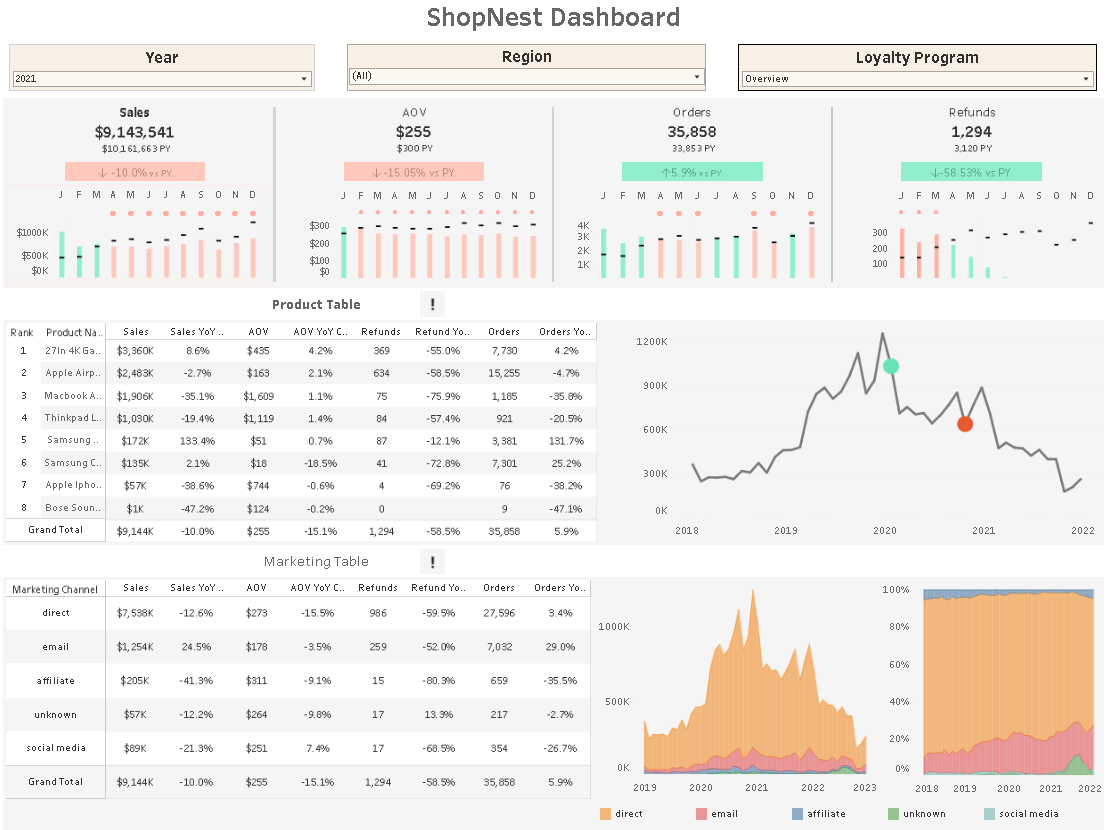

This screenshot's page, from the dashboard's own definition file:
{"tool":"tableau","page":{"name":"E-Commerce Dashboard","canvas":[1466,1068],"ordinal":0},"visuals":[{"type":"blank","box":[8,8,37,1052]},{"type":"text","box":[45,8,1375.8,54]},{"type":"blank","box":[1420.8,8,37.2,1052]},{"type":"parameter","param":"[Parameters].[Parameter 1]","box":[49,66,390,67]},{"type":"blank","box":[439,66,32,67]},{"type":"filter","title":"Sales Text","param":"[federated.0xa2xj31ri3njg17zrqng1dpn05a].[none:REGION:nk]","box":[471,66,456.9,67]},{"type":"blank","box":[927.9,66,32,67]},{"type":"parameter","param":"[Parameters].[Year Selected (copy)_1142506971504132098]","box":[959.9,66,456.9,67]},{"type":"worksheet","title":"Sales Text","mark":"Automatic","box":[47,139,325.7,74]},{"type":"blank","box":[372.7,139,23,234]},{"type":"worksheet","title":"AOV Text","mark":"Automatic","box":[395.7,139,325.7,74]},{"type":"blank","box":[721.4,139,23,234]},{"type":"worksheet","title":"Orders Text","mark":"Automatic","box":[744.4,139,325.7,74]},{"type":"blank","box":[1070.1,139,23,234]},{"type":"worksheet","title":"Refund Text","mark":"Automatic","box":[1093.1,139,325.7,74]},{"type":"blank","box":[47,213,71,32]},{"type":"worksheet","title":"Sales BTN","mark":"Square","box":[118,213,183.7,32]},{"type":"blank","box":[301.7,213,71,32]},{"type":"blank","box":[395.7,213,71,32]},{"type":"worksheet","title":"AOV BTN","mark":"Square","box":[466.7,213,183.7,32]},{"type":"blank","box":[650.4,213,71,32]},{"type":"blank","box":[744.4,213,71,32]},{"type":"worksheet","title":"Orders BTN","mark":"Square","box":[815.4,213,183.7,32]},{"type":"blank","box":[999.1,213,71,32]},{"type":"blank","box":[1093.1,213,71,32]},{"type":"worksheet","title":"Refund BTN","mark":"Square","box":[1164.1,213,183.7,32]},{"type":"blank","box":[1347.8,213,71,32]},{"type":"worksheet","title":"Sales Graph","mark":"Bar","rows":["Calculation_974466410042851328","Selected Year (copy)_974466410043158529"],"cols":["PURCHASE_TS","YoY Change Sign (copy)_974466410044526596"],"box":[47,245,325.7,128]},{"type":"worksheet","title":"AOV Graph","mark":"GanttBar","rows":["Orders Selected Year (copy)_1273955785422471179","Orders Selected Previous Year (copy)_1273955785422450698"],"cols":["PURCHASE_TS","● < Sales (copy)_1273955785422213128"],"box":[395.7,245,325.7,128]},{"type":"worksheet","title":"Orders Graph","mark":"Automatic","rows":["Selected Sales Year (copy)_1273955785416581127","Sales Previous Year  (copy)_1273955785416327171"],"cols":["PURCHASE_TS","● < Sales (copy)_1273955785415774208"],"box":[744.4,245,325.7,128]},{"type":"worksheet","title":"Refund Graph","mark":"Automatic","rows":["Refund Year (copy)_1020628307801571330","Refund Selected Year  (copy)_1020628307802804227"],"cols":["START_OF_PURCHASE_MONTH","● < Sales (copy)_1020628307807887366"],"box":[1093.1,245,325.7,128]},{"type":"blank","box":[49,379,258.4,32]},{"type":"text","box":[307.4,379,258.4,32]},{"type":"worksheet","title":"Product Info Button","mark":"Shape","box":[565.8,379,32,32]},{"type":"blank","box":[597.8,379,819,32]},{"type":"worksheet","title":"Products Table","mark":"Automatic","rows":["Calculation_1343198631543824384","PRODUCT_NAME"],"box":[45,415,746,281.5]},{"type":"worksheet","title":"Updated Product Graph","mark":"Automatic","rows":["Selected Sales Year (copy)_1098878351684214784","Max Selected Year (copy)_1439463073793093637"],"cols":["START_OF_PURCHASE_MONTH"],"box":[791,415,629.8,281.5]},{"type":"blank","box":[49,700.5,258.4,32]},{"type":"text","box":[307.4,700.5,258.4,32]},{"type":"worksheet","title":"Marketing Info Button","mark":"Shape","box":[565.8,700.5,32,32]},{"type":"blank","box":[597.8,700.5,819,32]},{"type":"worksheet","title":"Marketing Table","mark":"Automatic","rows":["MARKETING_CHANNEL"],"box":[45,736.5,739,281.5]},{"type":"worksheet","title":"Market Graph","mark":"Area","rows":["Selected Sales Year (copy)_1098878351684214784"],"cols":["START_OF_PURCHASE_MONTH"],"box":[784,736.5,357,281.5]},{"type":"worksheet","title":"Market Mix Graph","mark":"Area","cols":["START_OF_PURCHASE_MONTH"],"box":[1141,736.5,279.8,281.5]},{"type":"blank","box":[45,1018,739,42]},{"type":"legend","title":"Market Graph","param":"[federated.0xa2xj31ri3njg17zrqng1dpn05a].[none:MARKETING_CHANNEL:nk]","box":[784,1018,636.8,42]}]}

Visuals, with their boxes in screenshot pixels (x1, y1, x2, y2), scaled from the page's 1466x1068 canvas onto the 1111x830 screenshot:
blank: {"x1": 6, "y1": 6, "x2": 34, "y2": 824}
text: {"x1": 34, "y1": 6, "x2": 1077, "y2": 48}
blank: {"x1": 1077, "y1": 6, "x2": 1105, "y2": 824}
parameter: {"x1": 37, "y1": 51, "x2": 333, "y2": 103}
blank: {"x1": 333, "y1": 51, "x2": 357, "y2": 103}
"Sales Text" filter: {"x1": 357, "y1": 51, "x2": 703, "y2": 103}
blank: {"x1": 703, "y1": 51, "x2": 727, "y2": 103}
parameter: {"x1": 727, "y1": 51, "x2": 1074, "y2": 103}
"Sales Text" worksheet: {"x1": 36, "y1": 108, "x2": 282, "y2": 166}
blank: {"x1": 282, "y1": 108, "x2": 300, "y2": 290}
"AOV Text" worksheet: {"x1": 300, "y1": 108, "x2": 547, "y2": 166}
blank: {"x1": 547, "y1": 108, "x2": 564, "y2": 290}
"Orders Text" worksheet: {"x1": 564, "y1": 108, "x2": 811, "y2": 166}
blank: {"x1": 811, "y1": 108, "x2": 828, "y2": 290}
"Refund Text" worksheet: {"x1": 828, "y1": 108, "x2": 1075, "y2": 166}
blank: {"x1": 36, "y1": 166, "x2": 89, "y2": 190}
"Sales BTN" worksheet (Square marks): {"x1": 89, "y1": 166, "x2": 229, "y2": 190}
blank: {"x1": 229, "y1": 166, "x2": 282, "y2": 190}
blank: {"x1": 300, "y1": 166, "x2": 354, "y2": 190}
"AOV BTN" worksheet (Square marks): {"x1": 354, "y1": 166, "x2": 493, "y2": 190}
blank: {"x1": 493, "y1": 166, "x2": 547, "y2": 190}
blank: {"x1": 564, "y1": 166, "x2": 618, "y2": 190}
"Orders BTN" worksheet (Square marks): {"x1": 618, "y1": 166, "x2": 757, "y2": 190}
blank: {"x1": 757, "y1": 166, "x2": 811, "y2": 190}
blank: {"x1": 828, "y1": 166, "x2": 882, "y2": 190}
"Refund BTN" worksheet (Square marks): {"x1": 882, "y1": 166, "x2": 1021, "y2": 190}
blank: {"x1": 1021, "y1": 166, "x2": 1075, "y2": 190}
"Sales Graph" worksheet (Bar marks): {"x1": 36, "y1": 190, "x2": 282, "y2": 290}
"AOV Graph" worksheet (GanttBar marks): {"x1": 300, "y1": 190, "x2": 547, "y2": 290}
"Orders Graph" worksheet: {"x1": 564, "y1": 190, "x2": 811, "y2": 290}
"Refund Graph" worksheet: {"x1": 828, "y1": 190, "x2": 1075, "y2": 290}
blank: {"x1": 37, "y1": 295, "x2": 233, "y2": 319}
text: {"x1": 233, "y1": 295, "x2": 429, "y2": 319}
"Product Info Button" worksheet (Shape marks): {"x1": 429, "y1": 295, "x2": 453, "y2": 319}
blank: {"x1": 453, "y1": 295, "x2": 1074, "y2": 319}
"Products Table" worksheet: {"x1": 34, "y1": 323, "x2": 599, "y2": 541}
"Updated Product Graph" worksheet: {"x1": 599, "y1": 323, "x2": 1077, "y2": 541}
blank: {"x1": 37, "y1": 544, "x2": 233, "y2": 569}
text: {"x1": 233, "y1": 544, "x2": 429, "y2": 569}
"Marketing Info Button" worksheet (Shape marks): {"x1": 429, "y1": 544, "x2": 453, "y2": 569}
blank: {"x1": 453, "y1": 544, "x2": 1074, "y2": 569}
"Marketing Table" worksheet: {"x1": 34, "y1": 572, "x2": 594, "y2": 791}
"Market Graph" worksheet (Area marks): {"x1": 594, "y1": 572, "x2": 865, "y2": 791}
"Market Mix Graph" worksheet (Area marks): {"x1": 865, "y1": 572, "x2": 1077, "y2": 791}
blank: {"x1": 34, "y1": 791, "x2": 594, "y2": 824}
"Market Graph" legend: {"x1": 594, "y1": 791, "x2": 1077, "y2": 824}
